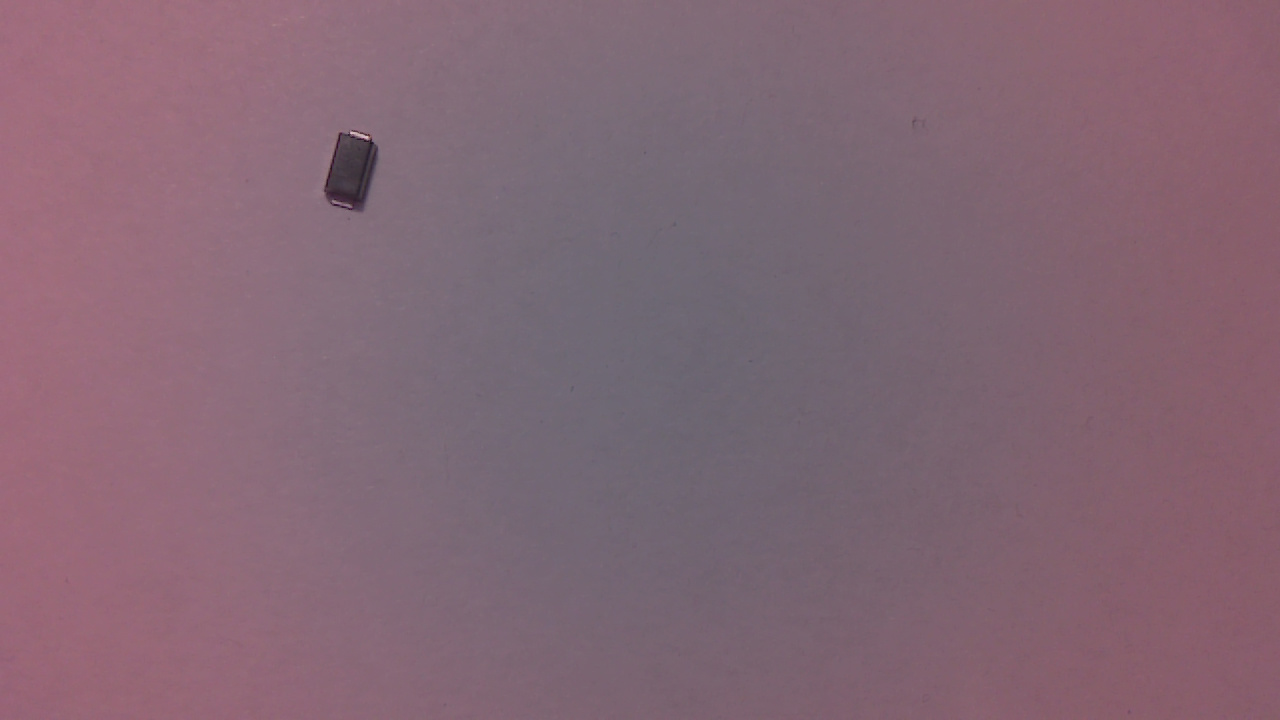Diode: (326, 133, 383, 217)
